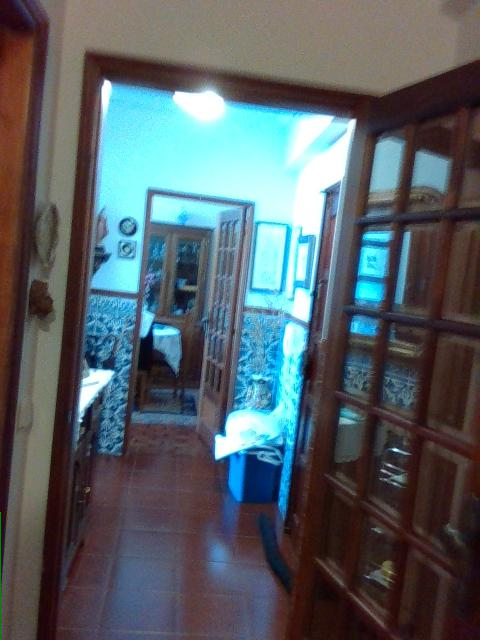door: (287, 56, 478, 636), (197, 210, 245, 451)
